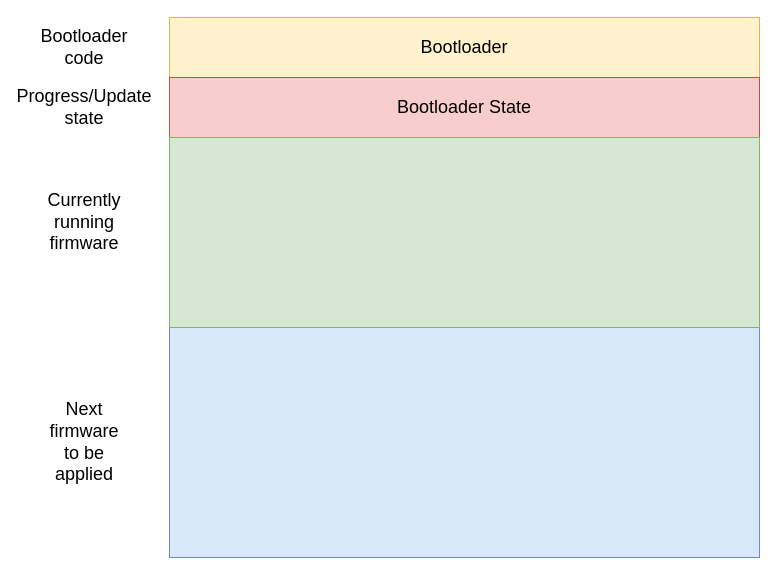
Some shapes in this 777 by 575 pixel diagram are drawn without their labels. The centre of each missing label's shape, as x and y in pixels:
Active: pixel 464 232
DFU: pixel 464 442
